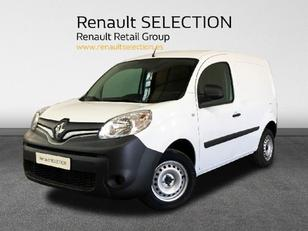car: (23, 51, 277, 206)
